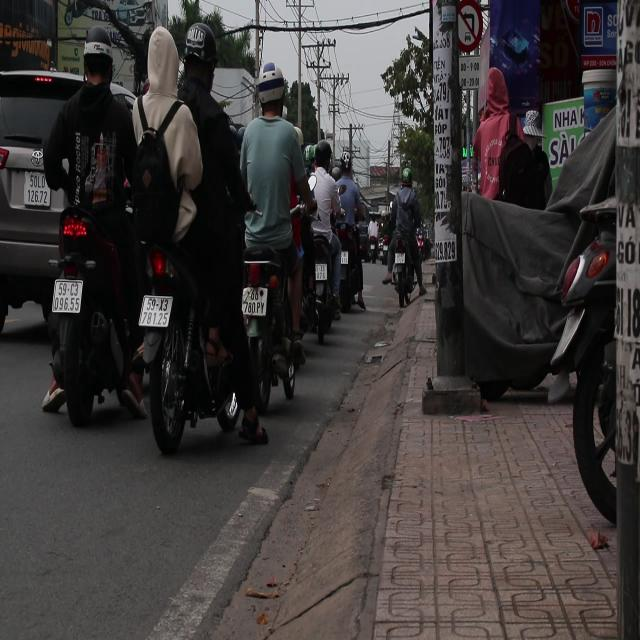car: (1, 60, 83, 341)
motorbike: (147, 236, 243, 450), (242, 241, 307, 415), (296, 212, 346, 347), (390, 234, 411, 309), (365, 219, 383, 266)
